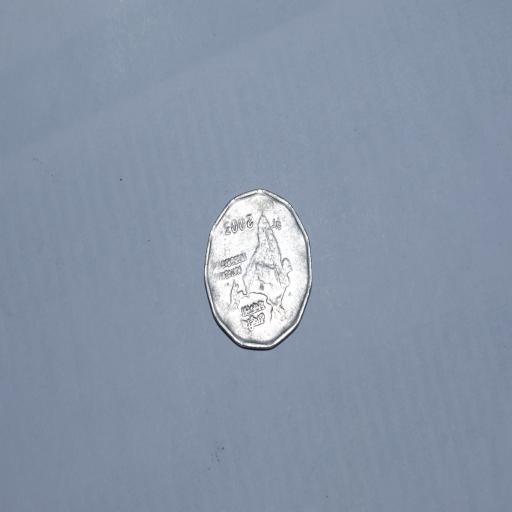rupee2: (202, 187, 314, 352)
